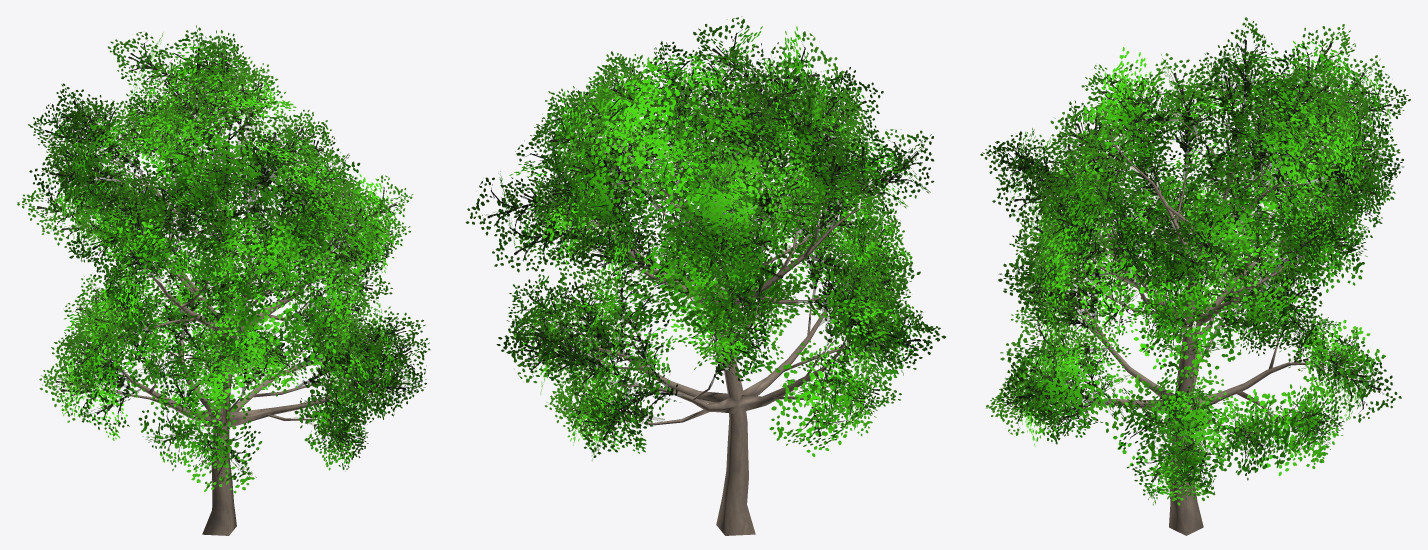
The model's file is tree_Broadleaf_XL1_LOD1.fbx.
The picture shows the model from 3 angles, left to right: view 1: azimuth 30°, elevation 25°; view 2: azimuth 150°, elevation 25°; view 3: azimuth 270°, elevation 25°; orthographic projection. The views are drawn at different scales.
Visible parts, largest first — view 1: Broadleaf_XL1_LOD1; view 2: Broadleaf_XL1_LOD1; view 3: Broadleaf_XL1_LOD1.
Boxes of the visible parts, box(x1,y1,x2,y2) form: Broadleaf_XL1_LOD1: box(17, 25, 430, 535); Broadleaf_XL1_LOD1: box(465, 16, 945, 535); Broadleaf_XL1_LOD1: box(980, 17, 1410, 535).
Size of the model in its own units: 1588 by 1943 by 1522.
